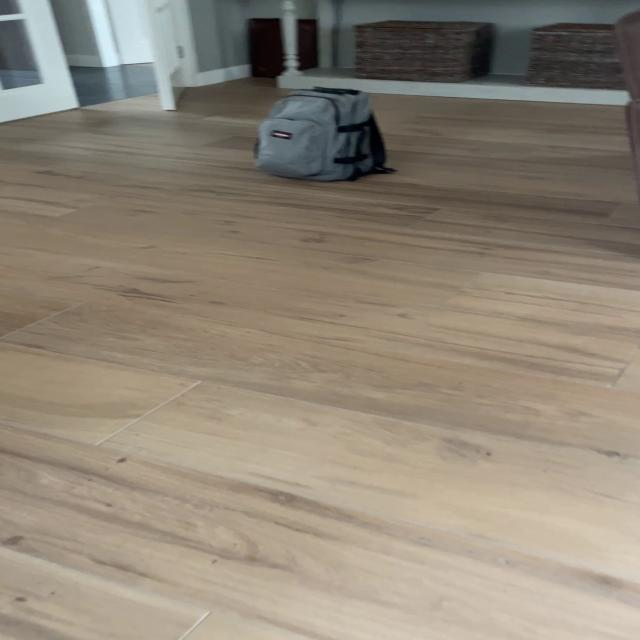backpack: (247, 82, 397, 186)
